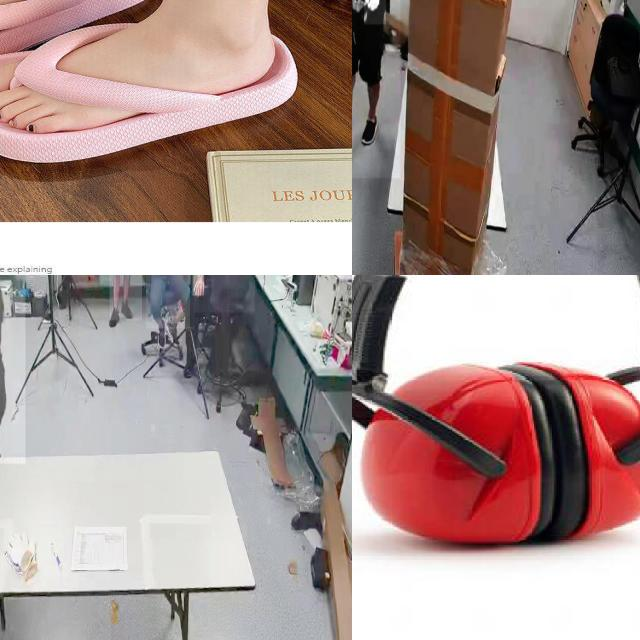Ear-protection: (352, 275, 640, 548)
Sandals: (0, 0, 316, 185)
hand_glove: (364, 0, 386, 24)
hand_noglove: (192, 275, 204, 296)
person: (352, 0, 401, 179), (145, 275, 190, 329), (194, 275, 255, 313), (109, 275, 142, 321)
shoes: (358, 111, 379, 147), (165, 315, 183, 349), (120, 297, 136, 320), (108, 304, 120, 332), (156, 316, 166, 348)
